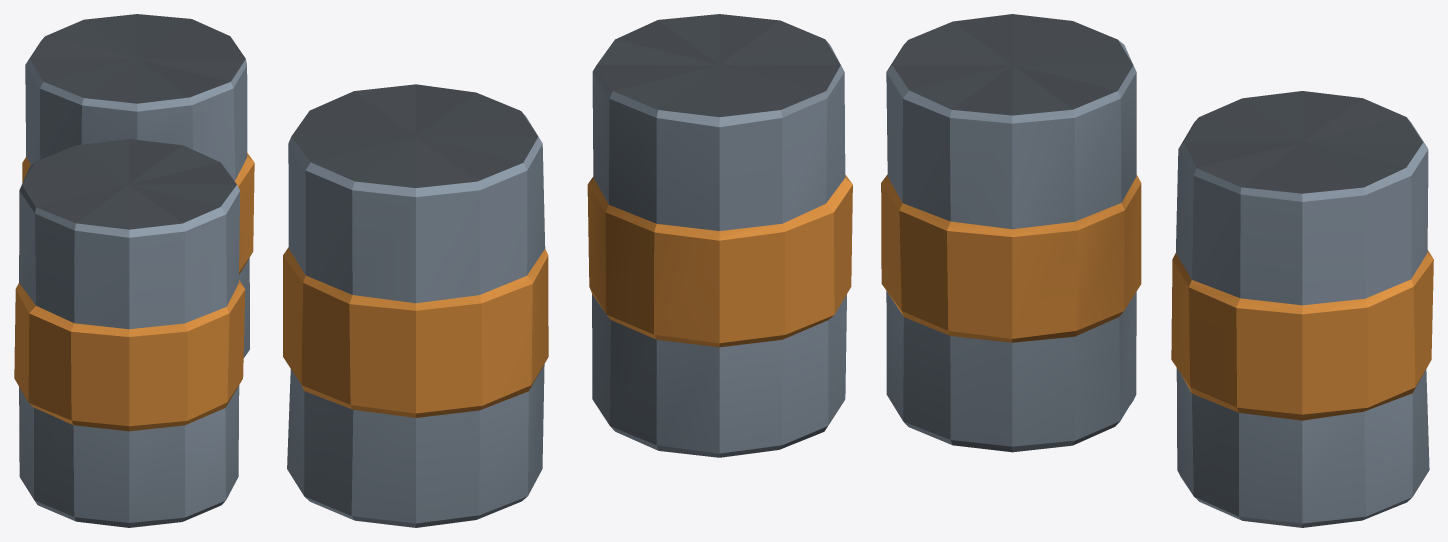
The model's file is obj_barriles_3.glb.
3 renders of one model, left to right at view 1: azimuth 30°, elevation 25°; view 2: azimuth 150°, elevation 25°; view 3: azimuth 270°, elevation 25°, orthographic. The views are drawn at different scales.
Visible parts, largest first — view 1: propforge-libre-barriles; view 2: propforge-libre-barriles; view 3: propforge-libre-barriles.
Part boxes in pixels (left/top/right/bottom): propforge-libre-barriles: left=14, top=14, right=254, bottom=527; propforge-libre-barriles: left=283, top=14, right=852, bottom=527; propforge-libre-barriles: left=881, top=14, right=1433, bottom=527.
Bounding box in the file's own units: 0.5306 × 0.4486 × 0.6683.
